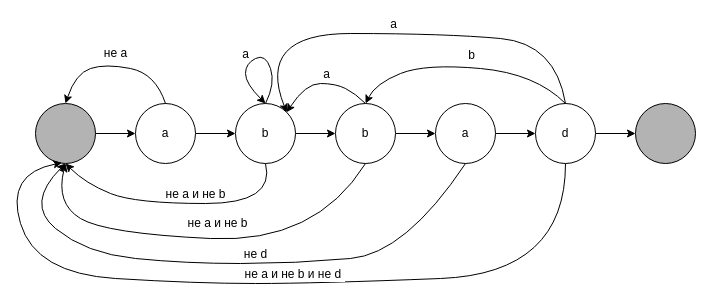
The diagram is 714 pixels wide and 301 high, and some of its shapes have lost their labels. Here are the shapes that lost their labels. From the top down, the centre of each, then its label:
At [65,133]: "Поступление нового символа".
At [665,133]: "Совпадение найдено".
